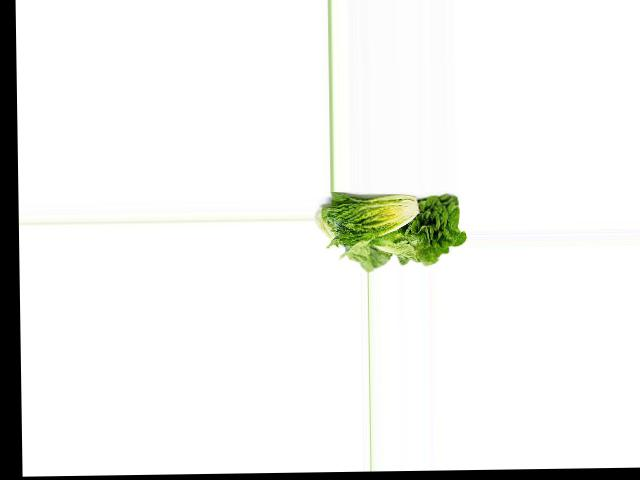lettuce: (375, 189, 464, 266)
